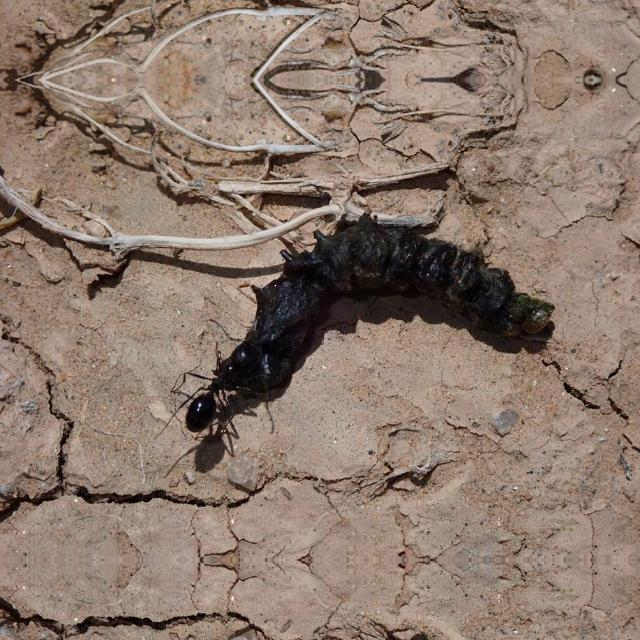Messor: (140, 337, 270, 445)
